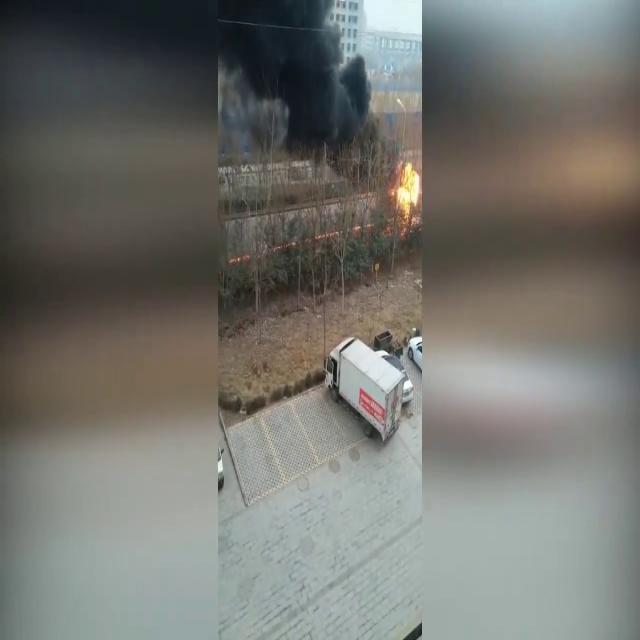Fire: (390, 154, 422, 224)
Smoke: (218, 0, 388, 170)
